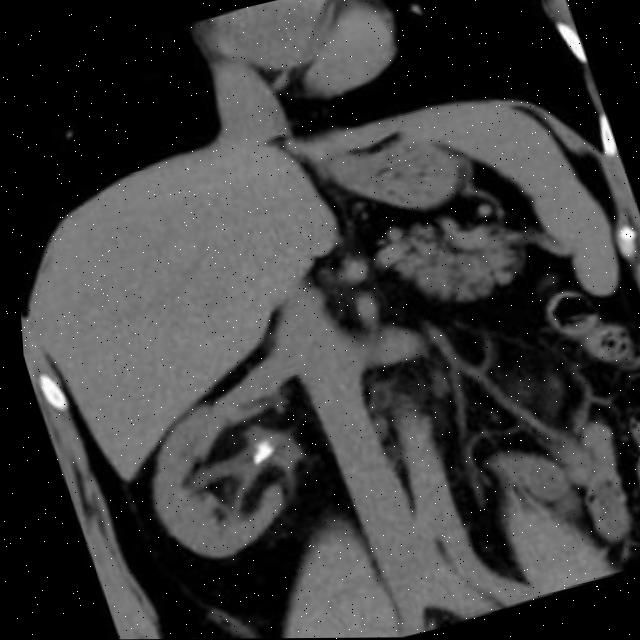Tas_Var: (242, 446, 270, 465), (249, 442, 262, 452)
